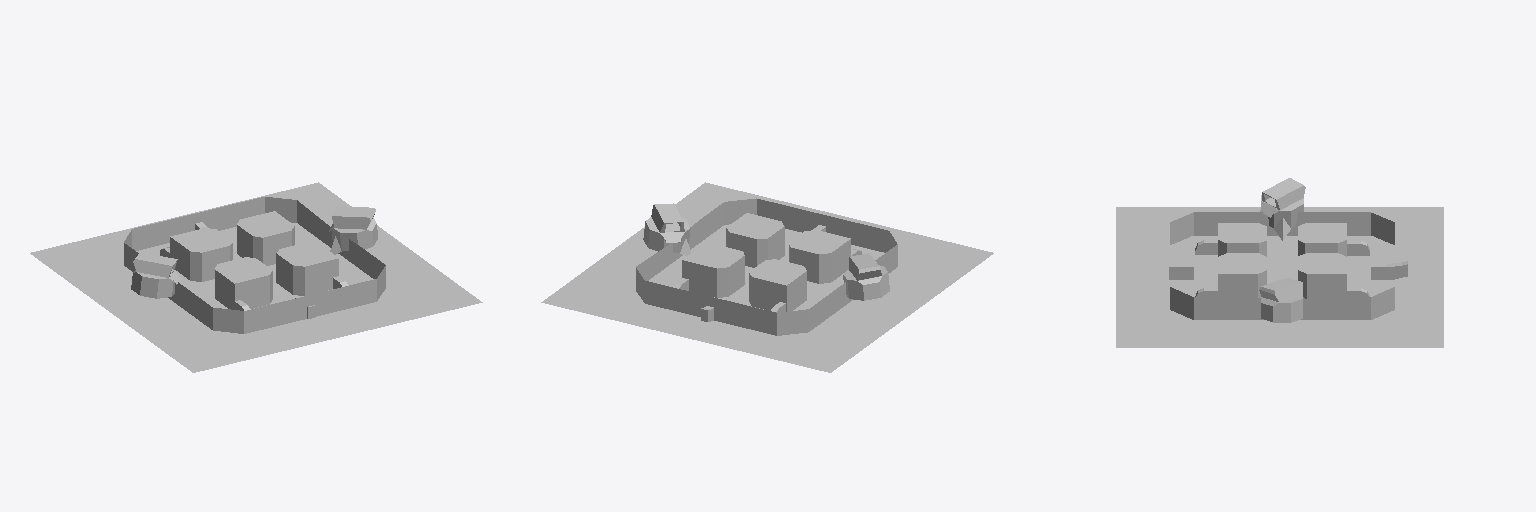
Rendered from DepotMinioCollider.obj.
3 views of the same model, side by side, from view 1: azimuth 30°, elevation 25°; view 2: azimuth 150°, elevation 25°; view 3: azimuth 270°, elevation 25° (orthographic).
Visible parts, largest first — view 1: collision; view 2: collision; view 3: collision.
Part boxes in pixels (x1,y1,x2,y2): collision: (30,182,482,372); collision: (541,182,993,372); collision: (1116,178,1443,347).
Bounding box in the file's own units: 64.59 × 9.31 × 63.44.